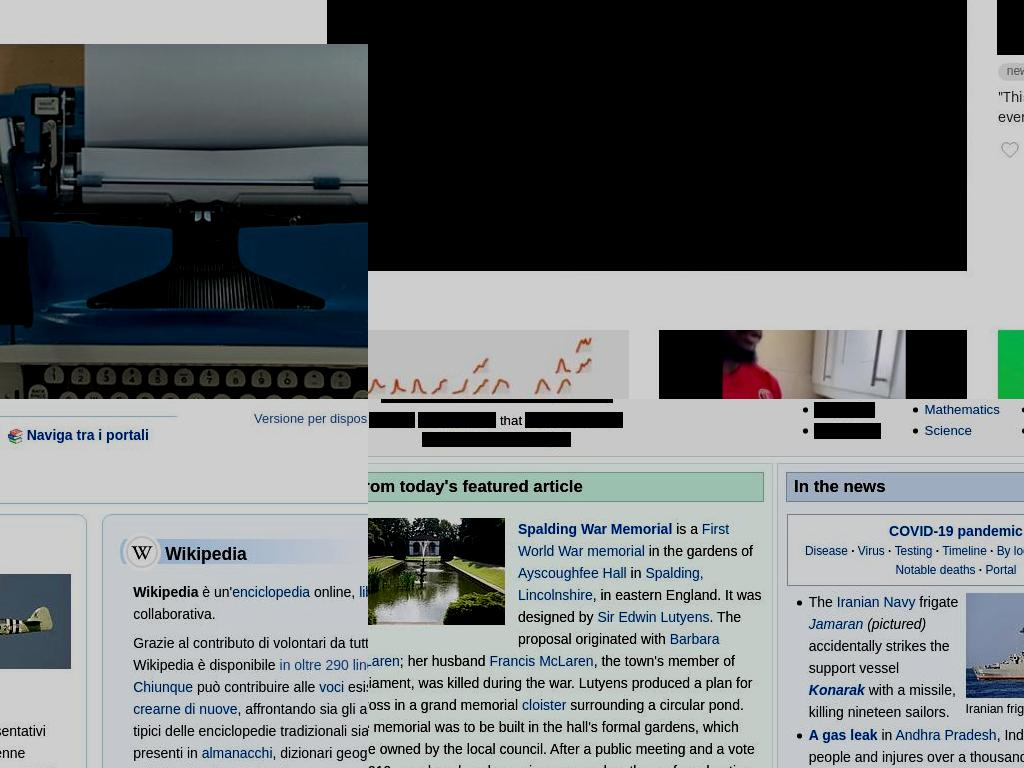button: (659, 330, 968, 399), (327, 0, 368, 44), (997, 63, 1024, 81)
heading: (368, 477, 584, 497), (794, 477, 887, 497)
image: (368, 0, 967, 271), (659, 330, 968, 399), (368, 330, 629, 399), (368, 518, 506, 626), (0, 573, 72, 669), (118, 538, 368, 564), (965, 593, 1024, 699), (123, 532, 162, 571), (997, 138, 1022, 162), (7, 428, 23, 444)
link: (368, 631, 720, 670), (517, 521, 729, 560), (517, 565, 704, 604), (0, 426, 149, 465), (517, 521, 672, 538), (889, 523, 1024, 540), (597, 609, 710, 626), (517, 565, 627, 582), (254, 411, 368, 427), (133, 700, 239, 717), (489, 653, 595, 670), (895, 726, 998, 743), (525, 412, 620, 428), (279, 656, 368, 673), (232, 583, 311, 600), (836, 593, 915, 610), (418, 412, 496, 428), (201, 744, 273, 761), (924, 402, 1000, 418), (895, 563, 976, 578), (808, 726, 878, 743), (814, 423, 881, 439), (133, 678, 194, 695), (814, 402, 875, 418), (808, 681, 865, 698), (808, 615, 863, 632), (422, 432, 476, 447), (924, 423, 972, 439), (522, 697, 567, 714), (942, 544, 988, 559), (804, 544, 848, 559), (531, 432, 571, 447), (894, 544, 932, 559), (985, 563, 1017, 578), (319, 678, 345, 695), (857, 544, 885, 559), (996, 544, 1024, 559), (391, 412, 415, 428), (359, 583, 368, 600)
text: (368, 697, 757, 768), (368, 653, 753, 714), (133, 700, 368, 761), (517, 587, 761, 626), (133, 583, 368, 622), (133, 634, 368, 673), (517, 609, 742, 648), (808, 726, 1024, 765), (808, 681, 956, 720), (133, 744, 368, 768), (808, 637, 950, 676), (158, 536, 254, 571), (193, 678, 320, 695), (644, 543, 753, 560), (399, 653, 489, 670), (133, 583, 199, 600), (867, 615, 927, 632), (965, 702, 1024, 717), (475, 432, 533, 447), (310, 583, 360, 600), (915, 593, 959, 610), (198, 583, 233, 600), (672, 521, 703, 538), (496, 412, 527, 428), (808, 593, 837, 610), (344, 678, 368, 695), (369, 412, 392, 428), (626, 565, 645, 582), (877, 726, 895, 743), (619, 412, 623, 428)
